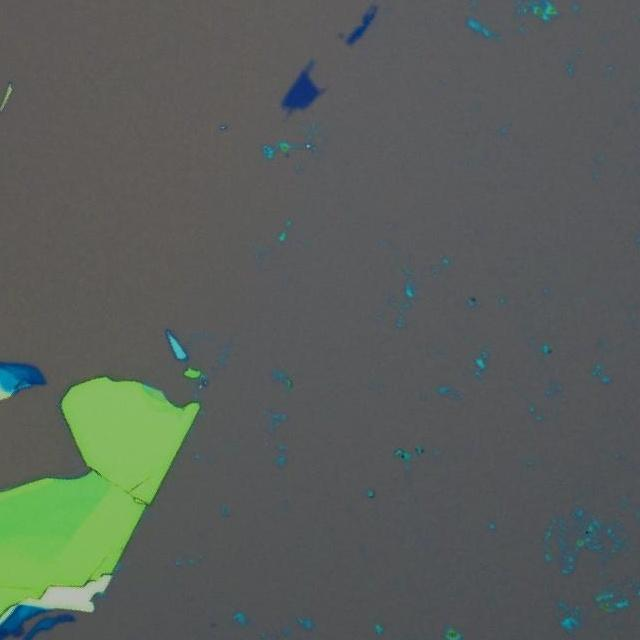monolayer-eWW4: (305, 59, 315, 75)
